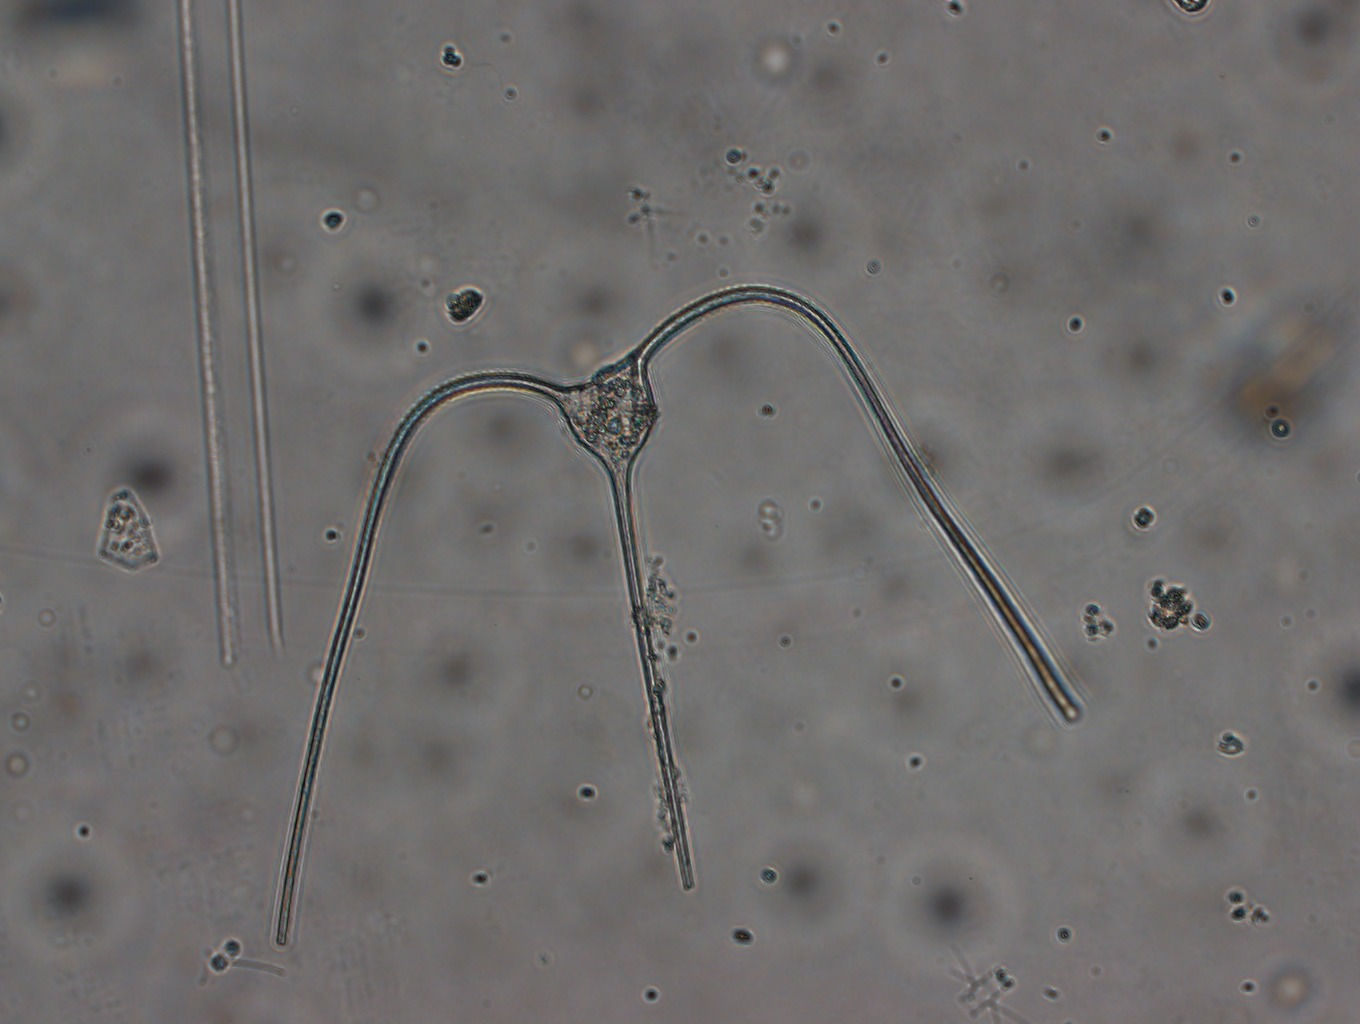ceratium trichoceros: (273, 283, 1085, 945)
